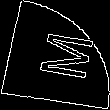M_W: (21, 27, 89, 83)
